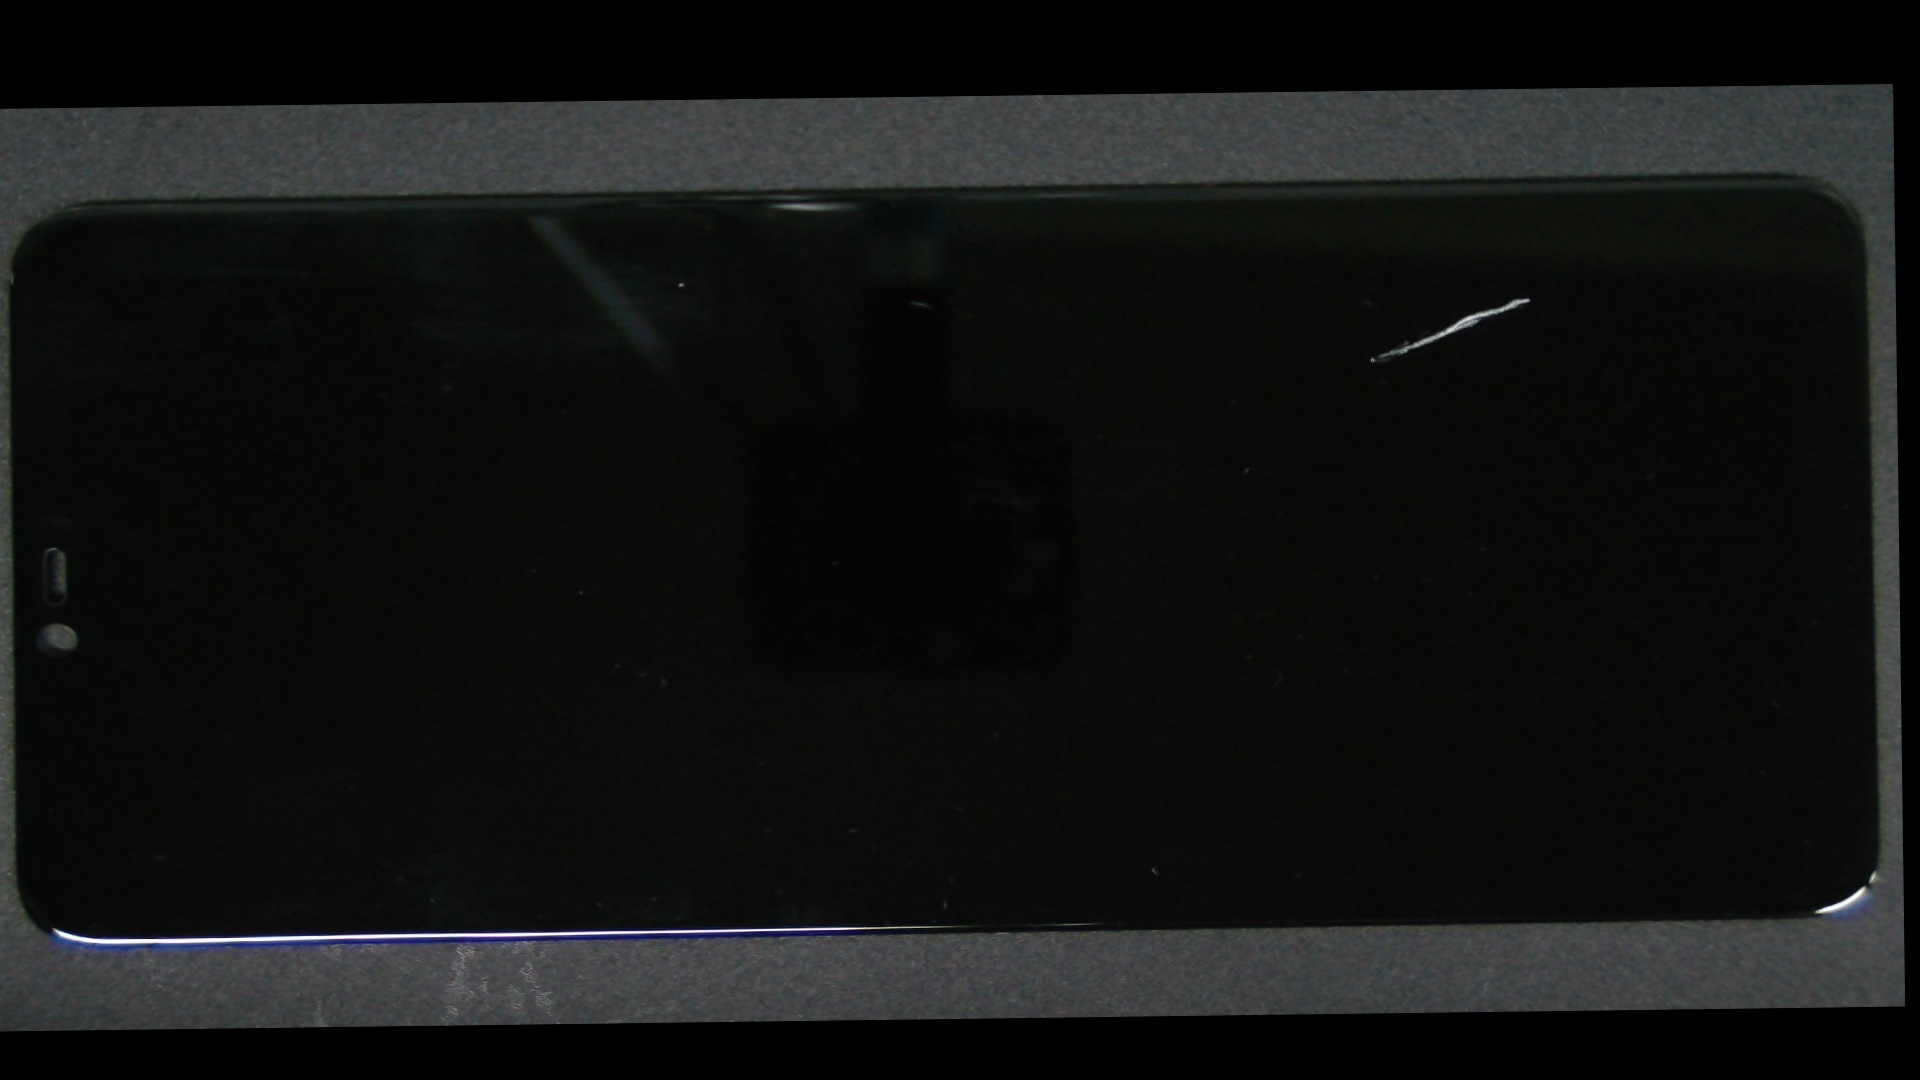oil: (729, 189, 1898, 415)
